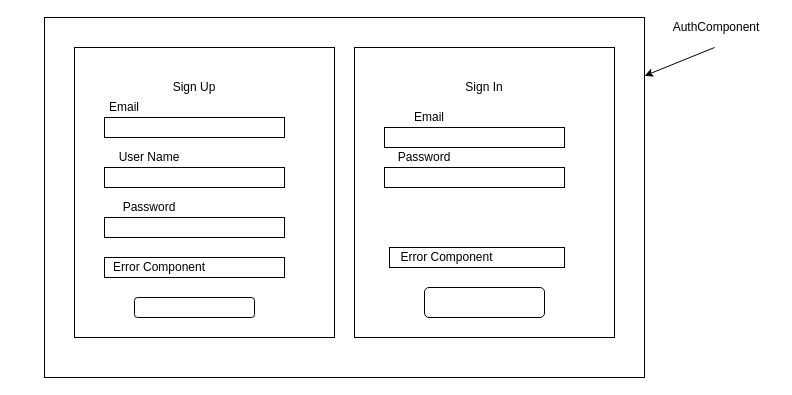
Image size: 792x395. Some labels were removed from this diagram. The shapes that lost their labels are listed below. From the top down, each one's centre as x and y in pixels, then its label:
the point at 194,307: Create Account
the point at 484,302: Log In
